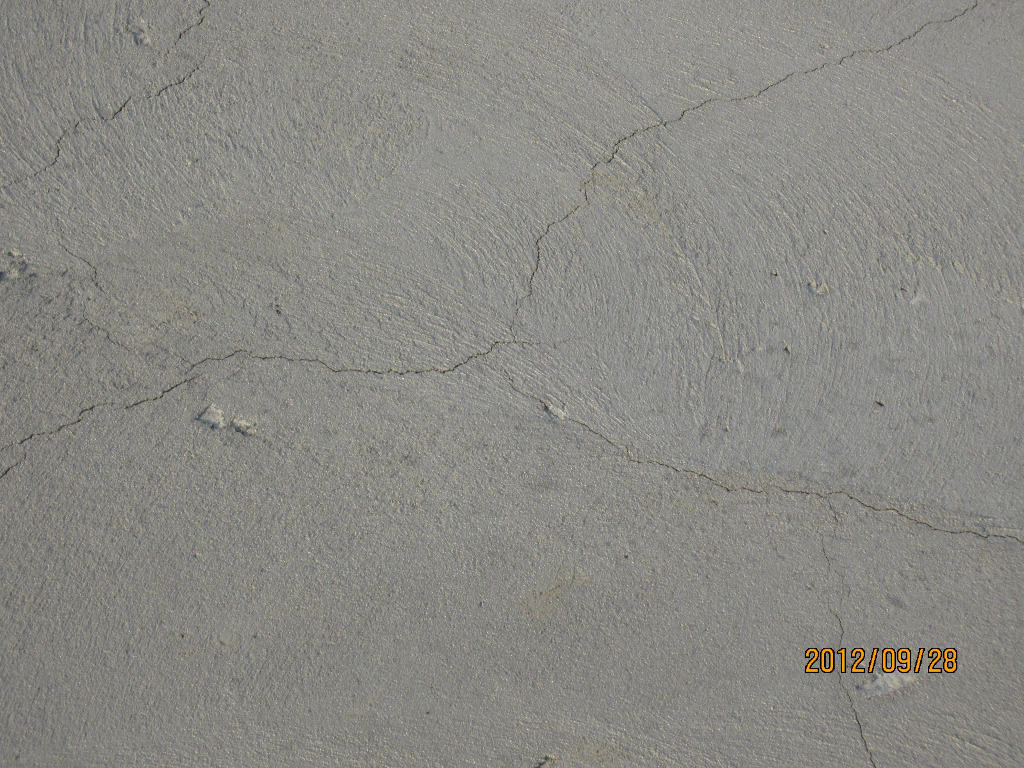crack: (2, 332, 544, 490)
